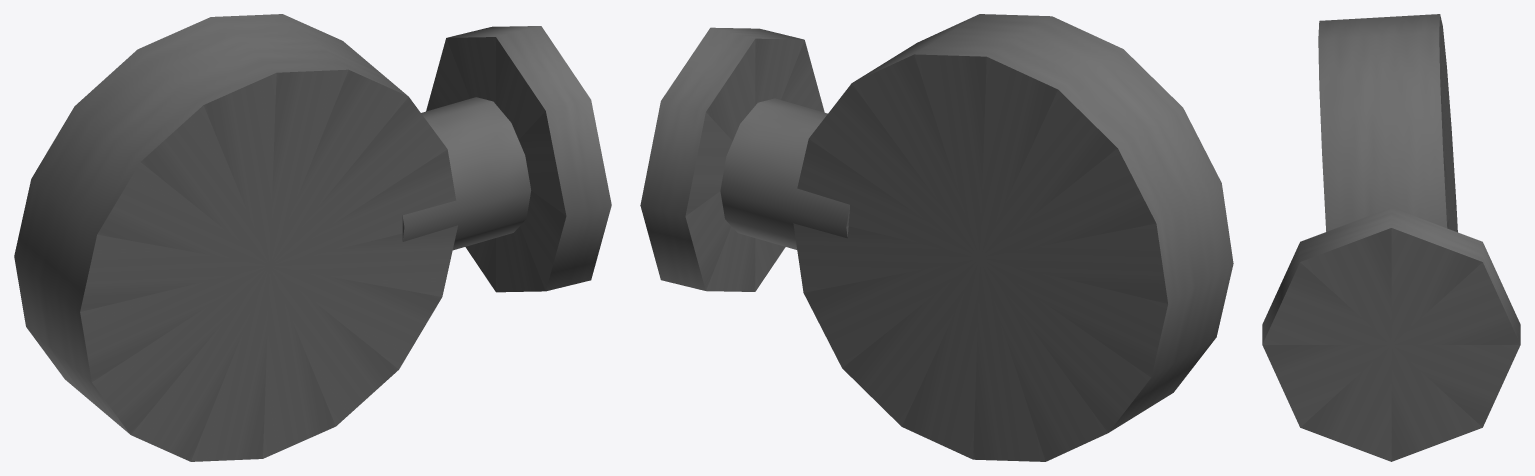
Rendered from mastarmcurve_4x1_c4_east.obj.
3 renders of one model, left to right at view 1: azimuth 30°, elevation 25°; view 2: azimuth 150°, elevation 25°; view 3: azimuth 270°, elevation 25°, orthographic. The views are drawn at different scales.
Visible parts, largest first — view 1: mastarm_4x1_c4_east; view 2: mastarm_4x1_c4_east; view 3: mastarm_4x1_c4_east.
Part boxes in pixels (x1,y1,x2,y2): mastarm_4x1_c4_east: (14, 14, 611, 461); mastarm_4x1_c4_east: (640, 14, 1233, 461); mastarm_4x1_c4_east: (1262, 14, 1520, 461).
Bounding box in the file's own units: 0.8103 × 0.6324 × 0.4.
